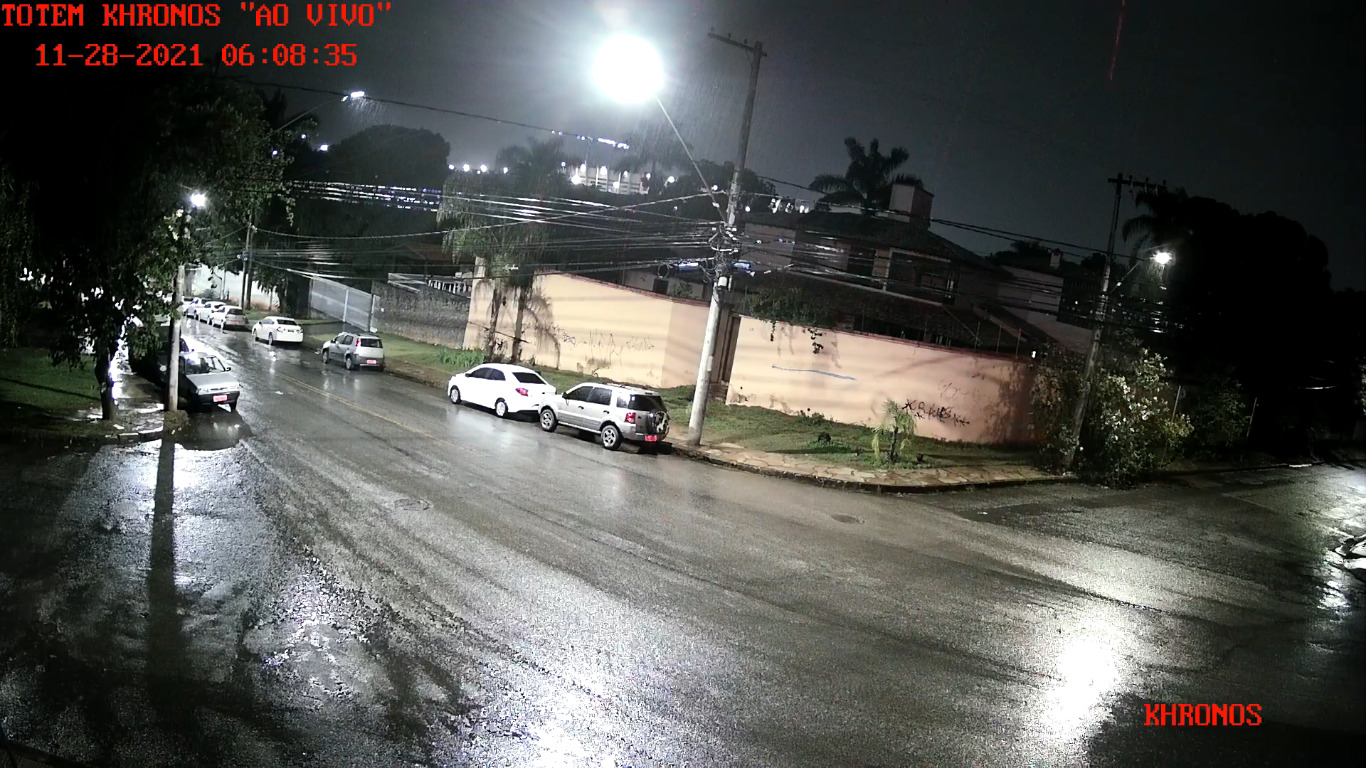car: (539, 380, 672, 452), (447, 360, 559, 419), (167, 351, 241, 414), (320, 330, 386, 371), (251, 314, 304, 347)
